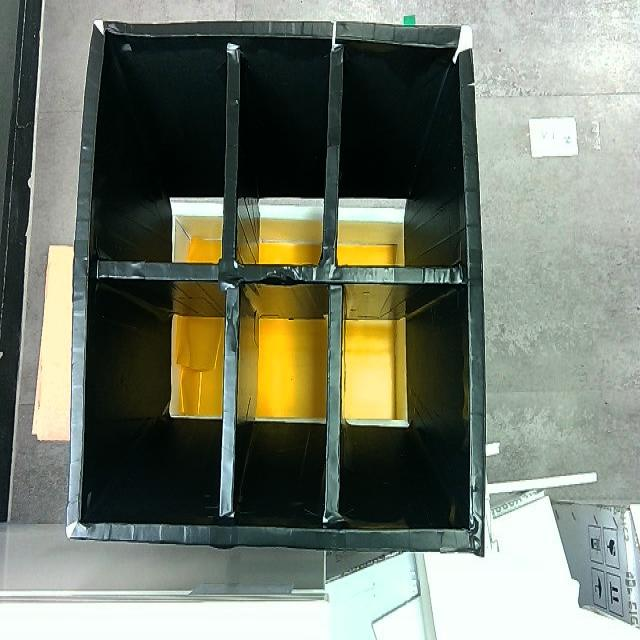box: (66, 19, 487, 554)
